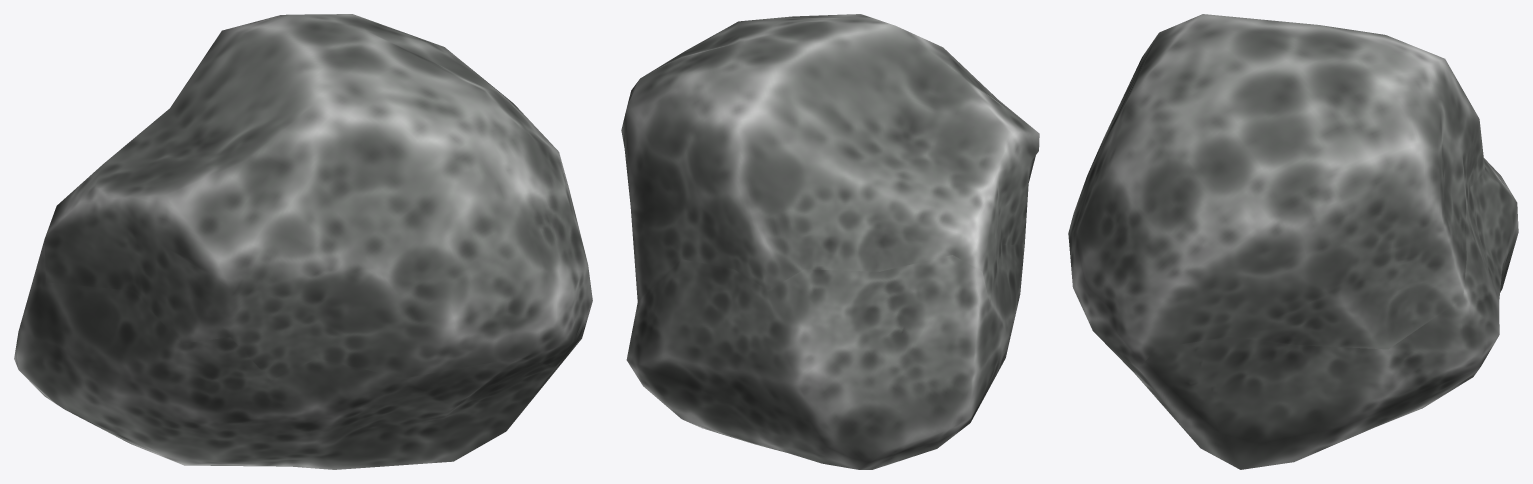
File: BigMeteo3.fbx
3 views of the same model, side by side, from view 1: azimuth 30°, elevation 25°; view 2: azimuth 150°, elevation 25°; view 3: azimuth 270°, elevation 25° (orthographic). The views are drawn at different scales.
Parts seen in each view (by area): view 1: Meteorite_07; view 2: Meteorite_07; view 3: Meteorite_07.
Part boxes in pixels (x1,y1,x2,y2): Meteorite_07: (14, 14, 592, 469); Meteorite_07: (621, 14, 1039, 469); Meteorite_07: (1068, 14, 1518, 469).
Size of the model in its own units: 857 by 772 by 811.
